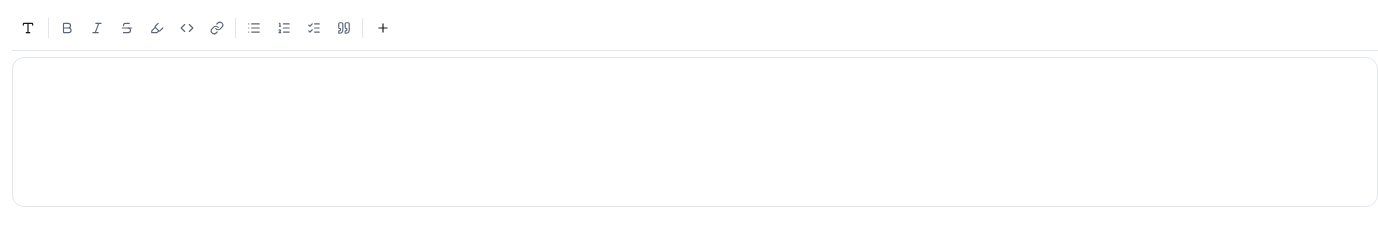
Test case: TaskDescriptionEditor (bloque 7) › el clic derecho abre el menú contextual propio, no el del navegador, con submenús de formato, párrafo e insertar
This screenshot has width=1378, height=251.
Right-click the element with test id "task-description-editor".
right_click(695, 132)  # box x1=12 y1=57 x2=1377 y2=207
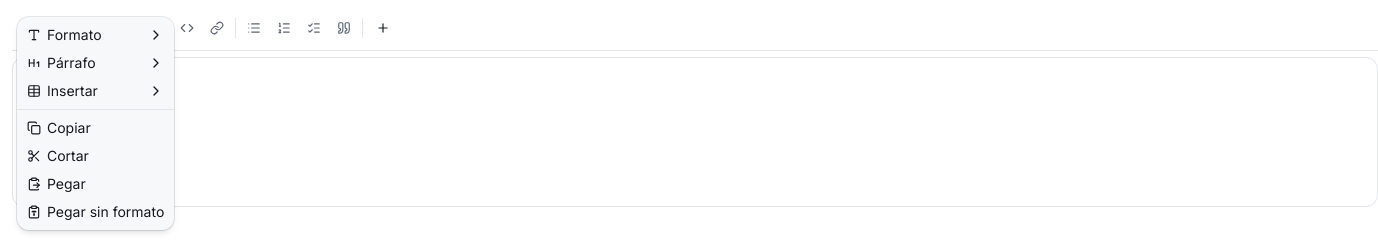
Expected: the menu is shown, x1=17 y1=17 x2=174 y2=230
Expected: the menu item "Formato" is shown, x1=21 y1=21 x2=170 y2=49
Expected: the menu item "Párrafo" is shown, x1=21 y1=49 x2=170 y2=77
